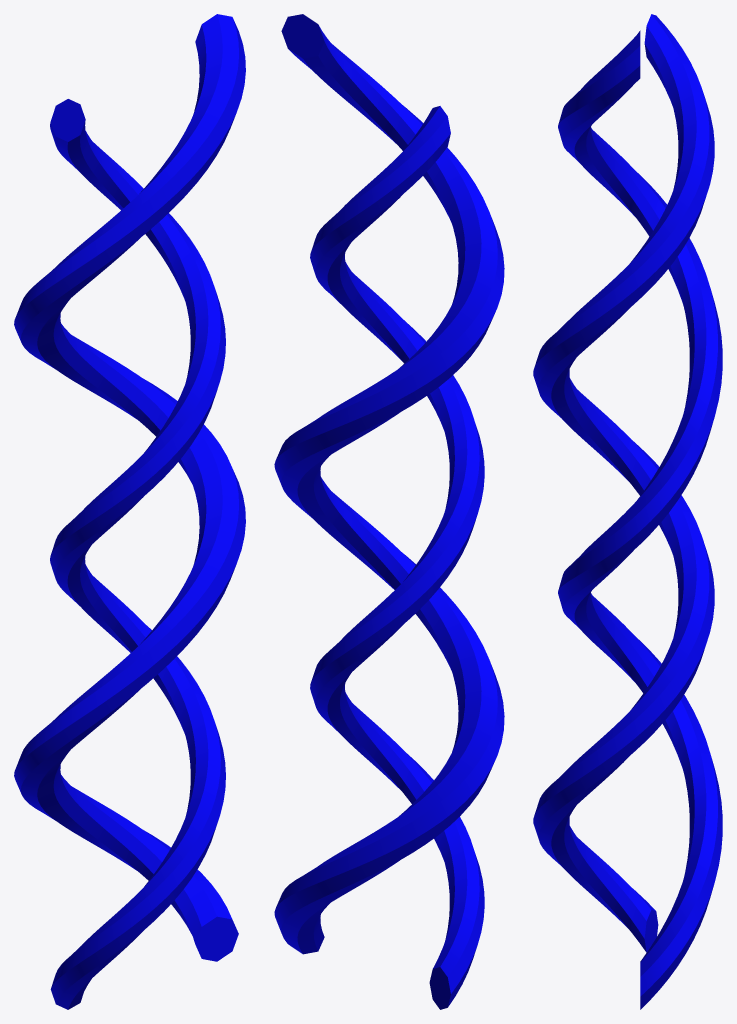
Rendered from DNA.obj.
3 renders of one model, left to right at view 1: azimuth 30°, elevation 25°; view 2: azimuth 150°, elevation 25°; view 3: azimuth 270°, elevation 25°, orthographic. The views are drawn at different scales.
Parts seen in each view (by area): view 1: pHelix1 group2, group2 pHelix2; view 2: pHelix1 group2, group2 pHelix2; view 3: group2 pHelix2, pHelix1 group2.
Boxes of the visible parts, x1=… form: pHelix1 group2: x1=14, y1=14, x2=245, y2=961; group2 pHelix2: x1=50, y1=99, x2=225, y2=1009; pHelix1 group2: x1=274, y1=14, x2=504, y2=954; group2 pHelix2: x1=310, y1=106, x2=484, y2=1009; group2 pHelix2: x1=533, y1=14, x2=714, y2=952; pHelix1 group2: x1=558, y1=30, x2=722, y2=1009.
Size of the model in its own units: 2.86 by 12.09 by 2.09.
